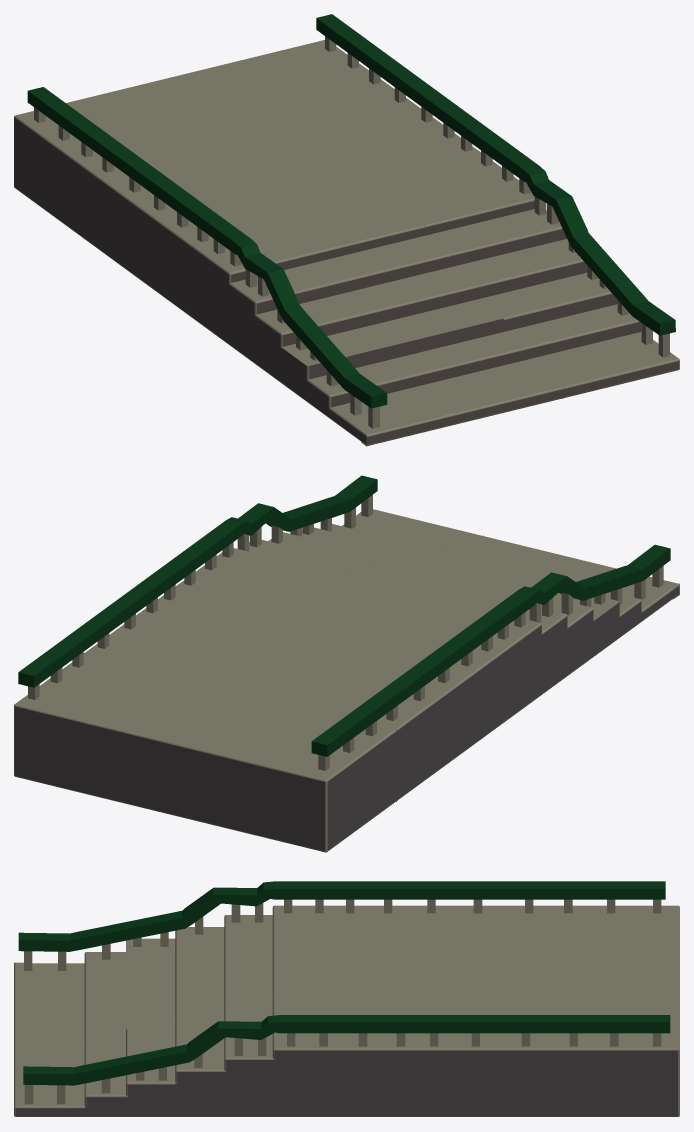
The model's file is fase3.fbx.
3 views of the same model, one above another, from view 1: azimuth 30°, elevation 25°; view 2: azimuth 150°, elevation 25°; view 3: azimuth 270°, elevation 25° (orthographic). The views are drawn at different scales.
Parts seen in each view (by area): view 1: Cube; view 2: Cube; view 3: Cube.
Part boxes in pixels (bbox=[...]): Cube: bbox=[14, 14, 679, 446]; Cube: bbox=[14, 475, 679, 852]; Cube: bbox=[14, 881, 679, 1116].
Bounding box in the file's own units: 5700 × 1756 × 11135.
